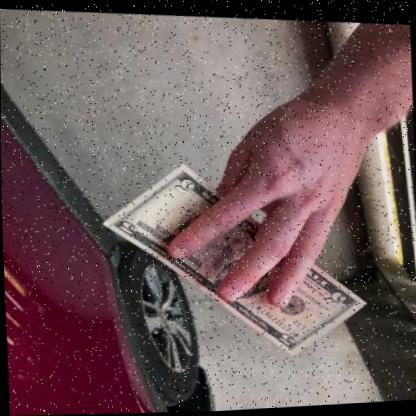five-front: (101, 160, 367, 352)
